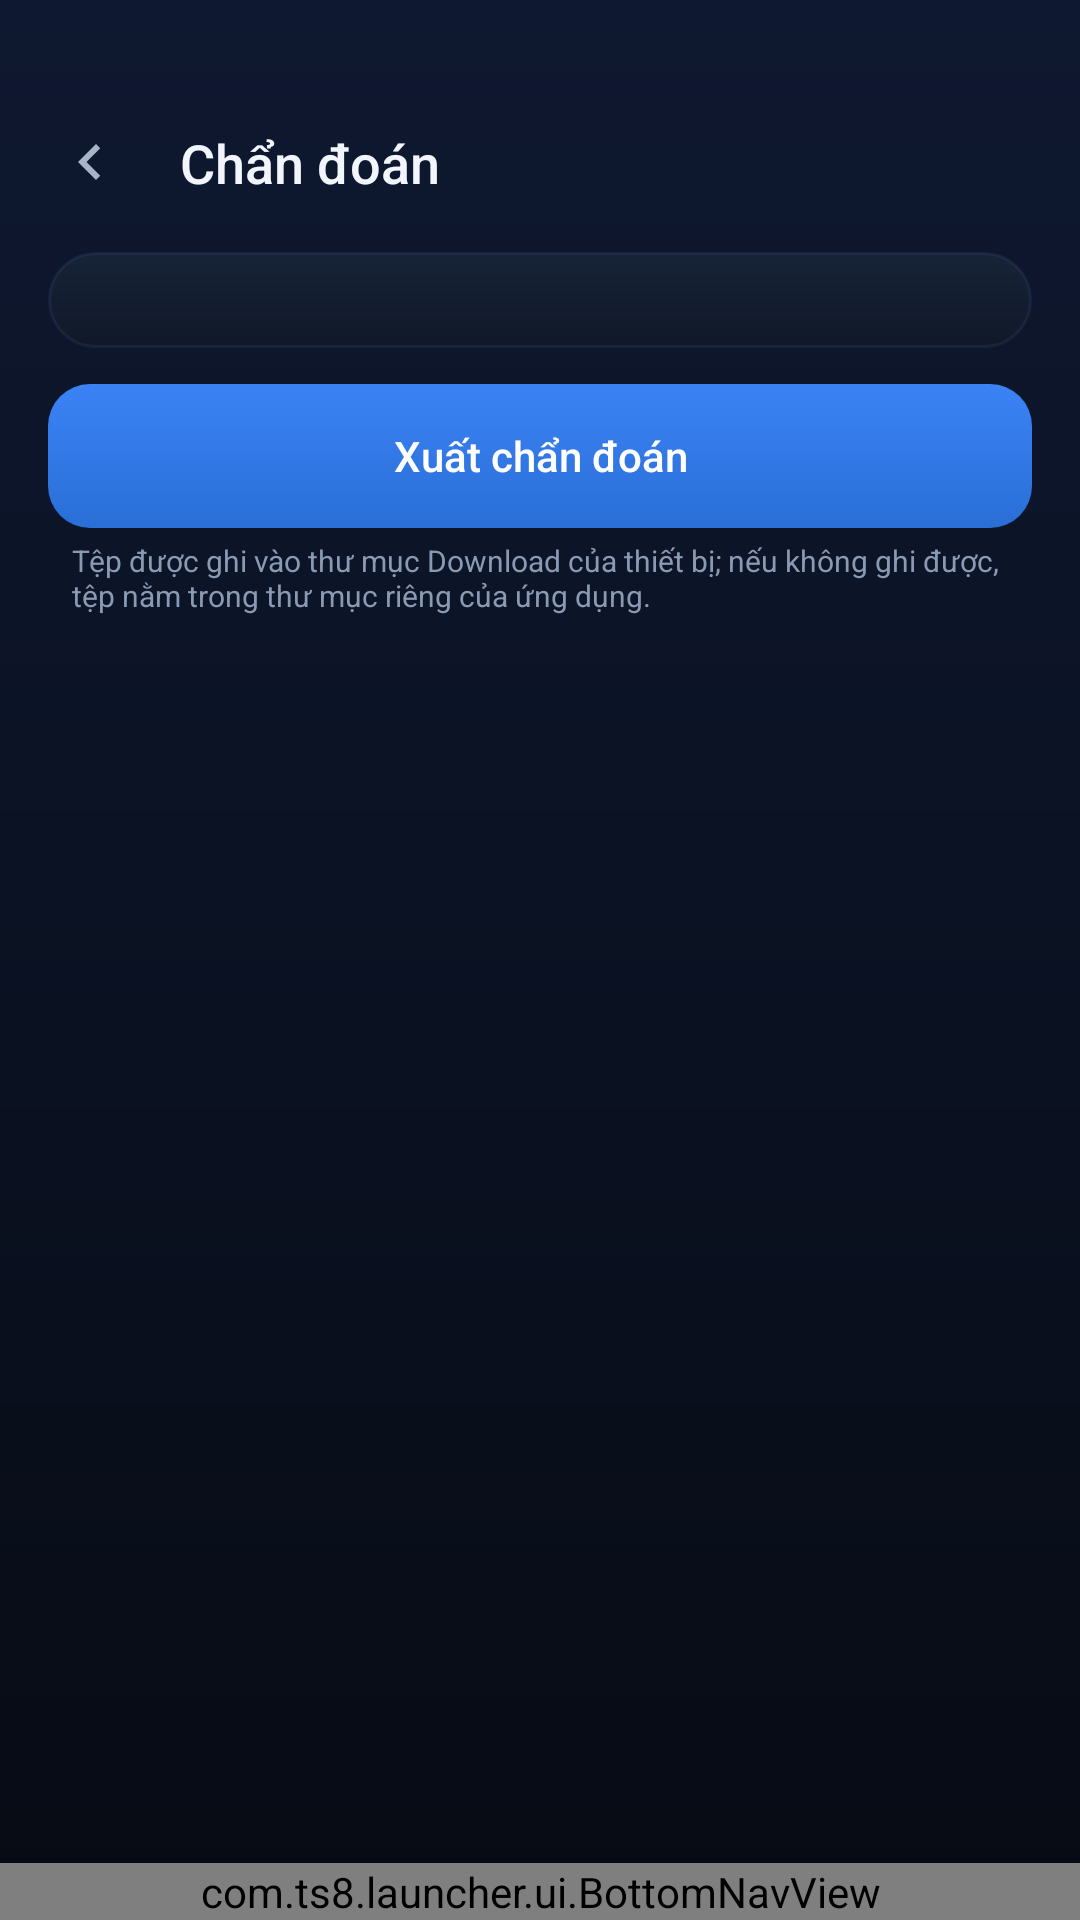

Icon click points for this 1080px x 1920px phone screenshot, format (x=x, y=y):
Quay lại: (x=89, y=162)
